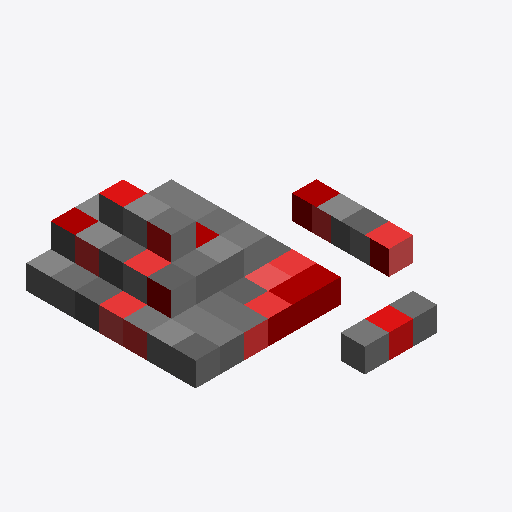
Isometric view (azimuth 45°, elevation 35.3°) of a Minecraft model made of 5 cuboids, textured from the same repository.
Visible parts, largest first — element 1, element 2, element 4, element 3, element 5.
Boxes of the visible parts, <box> form: element 1: <box>26,179,340,387</box>; element 2: <box>51,193,243,318</box>; element 4: <box>292,179,412,276</box>; element 3: <box>99,180,195,262</box>; element 5: <box>341,291,436,373</box>.
Size of the model in its own units: 9 by 3 by 10.